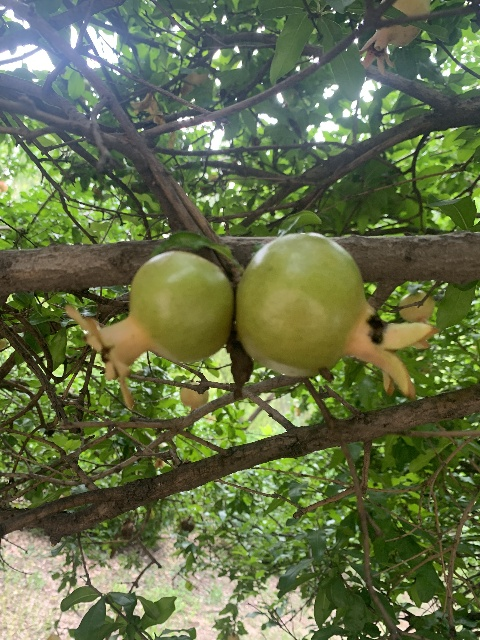mid-growth: (235, 232, 437, 399), (63, 250, 236, 411), (358, 0, 430, 75), (398, 289, 435, 325), (180, 382, 209, 414)
